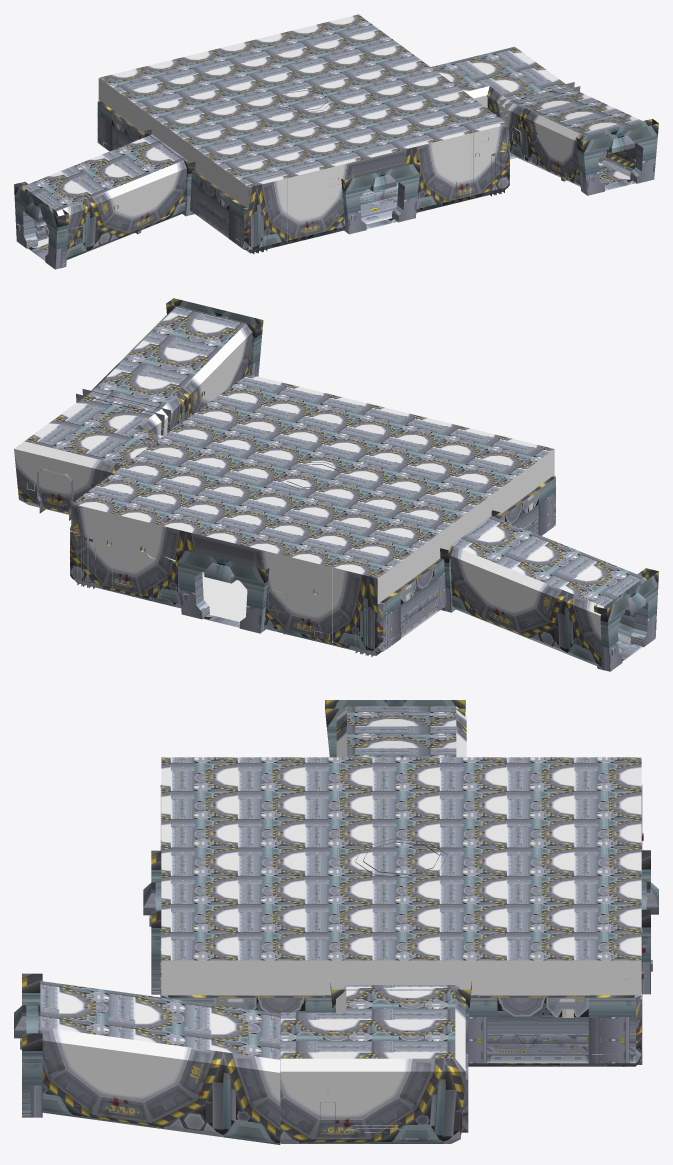
The model's file is Combined_Mesh_root_scene__12_ac3e1c64__ZombiesII_laboratory_07_d_a6872bb1_c1f257.obj.
3 views of the same model, one above another, from view 1: azimuth 30°, elevation 25°; view 2: azimuth 150°, elevation 25°; view 3: azimuth 270°, elevation 25° (orthographic). The views are drawn at different scales.
Size of the model in its own units: 78.61 by 13.91 by 53.73.
Materials: 273 (273 with a texture image).
